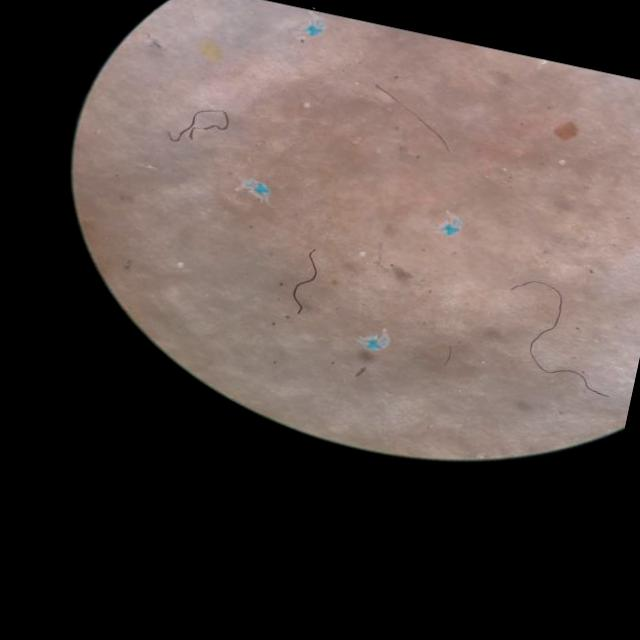fiber: (511, 280, 570, 373), (374, 84, 448, 150), (168, 109, 227, 142), (292, 249, 315, 314), (572, 371, 593, 390)
film: (362, 331, 389, 350), (243, 179, 269, 194), (442, 217, 459, 234), (303, 22, 322, 35)
fragment: (198, 42, 220, 61), (554, 122, 577, 140)
pellet: (176, 262, 182, 267), (358, 252, 364, 257), (303, 102, 309, 107), (558, 160, 564, 164)
